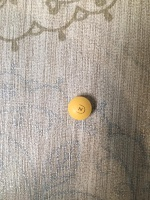Nurofen: (67, 95, 93, 121)
